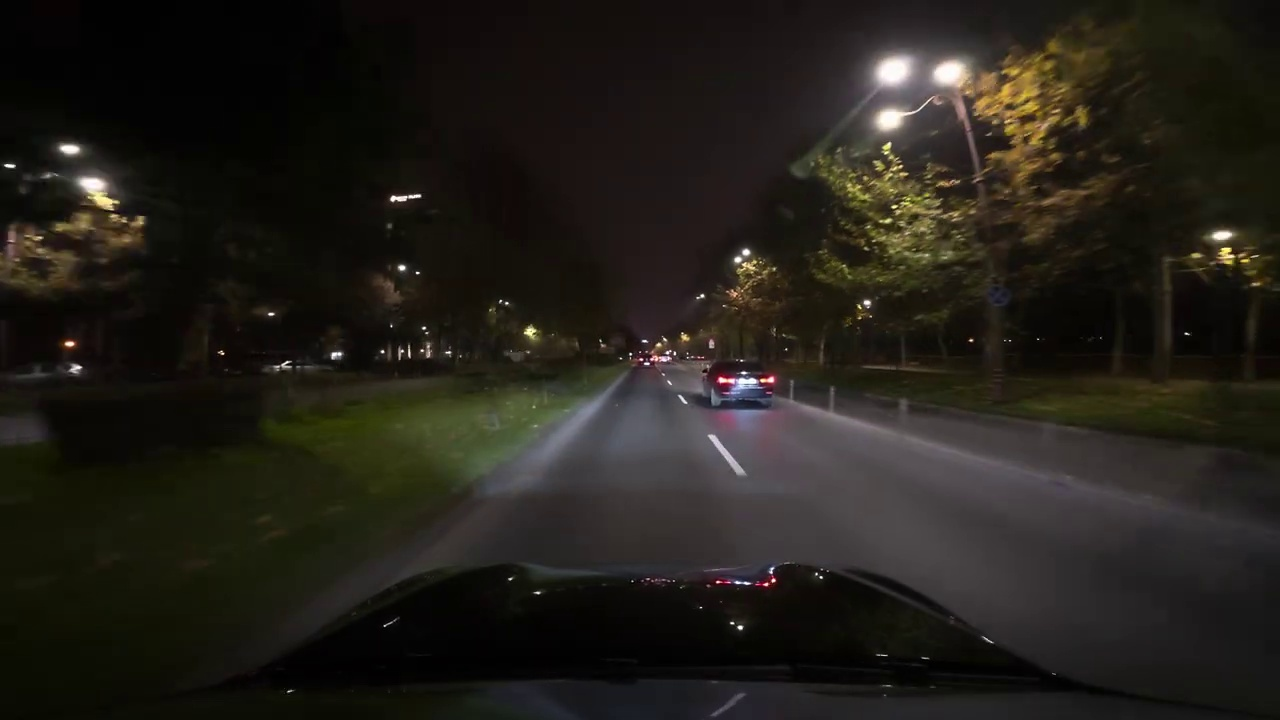acesa: (876, 55, 910, 86), (933, 59, 967, 88), (875, 106, 906, 134)
